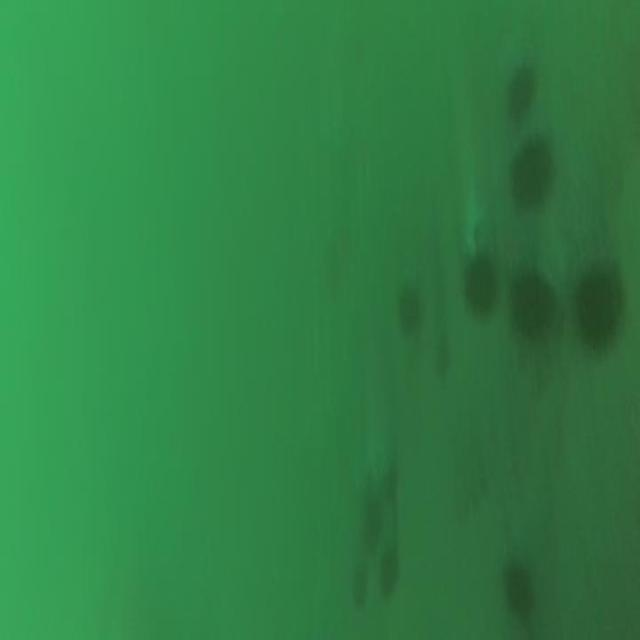echinus: (571, 248, 625, 357), (502, 136, 560, 221), (506, 255, 556, 348), (501, 555, 539, 627), (499, 63, 544, 123), (462, 251, 501, 318), (393, 280, 427, 343)
starfish: (457, 182, 488, 253)
